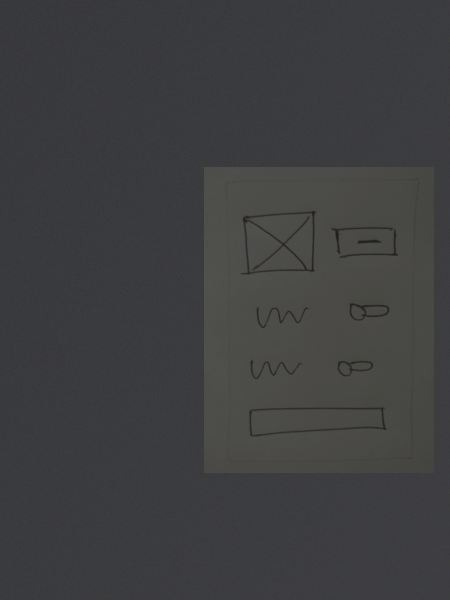button: (329, 224, 401, 261)
image: (239, 210, 318, 279)
switch: (344, 300, 393, 327), (333, 356, 375, 382)
text: (252, 304, 313, 330), (247, 357, 302, 384)
text_input: (246, 406, 389, 441)
